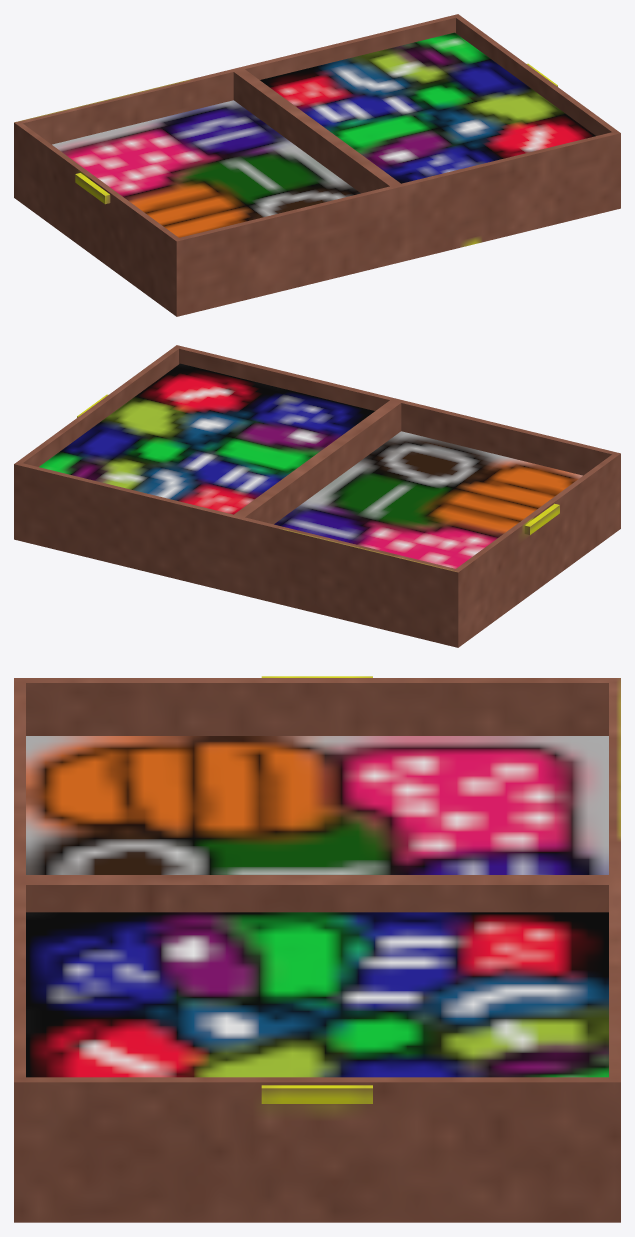
File: Suitcase.fbx
3 views of the same model, one above another, from view 1: azimuth 30°, elevation 25°; view 2: azimuth 150°, elevation 25°; view 3: azimuth 270°, elevation 25° (orthographic). The views are drawn at different scales.
Parts seen in each view (by area): view 1: Suitcase; view 2: Suitcase; view 3: Suitcase.
Part boxes in pixels (<box>): Suitcase: <box>14,14,620,316</box>; Suitcase: <box>14,345,620,647</box>; Suitcase: <box>14,676,620,1222</box>.
Bounding box in the file's own units: 71.78 × 11.41 × 44.67.
